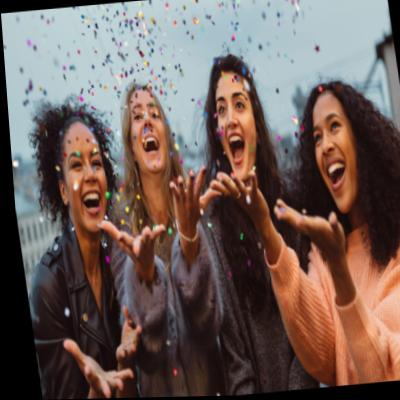happy: (302, 96, 366, 213), (52, 121, 109, 236), (198, 77, 259, 181), (120, 90, 175, 180)
